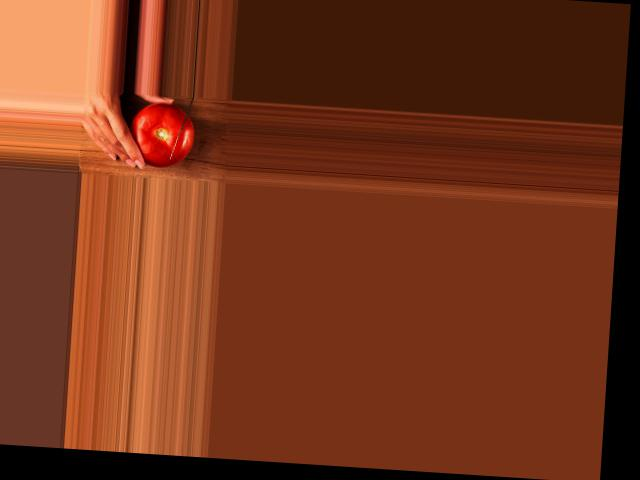tomato: (127, 101, 195, 168)
